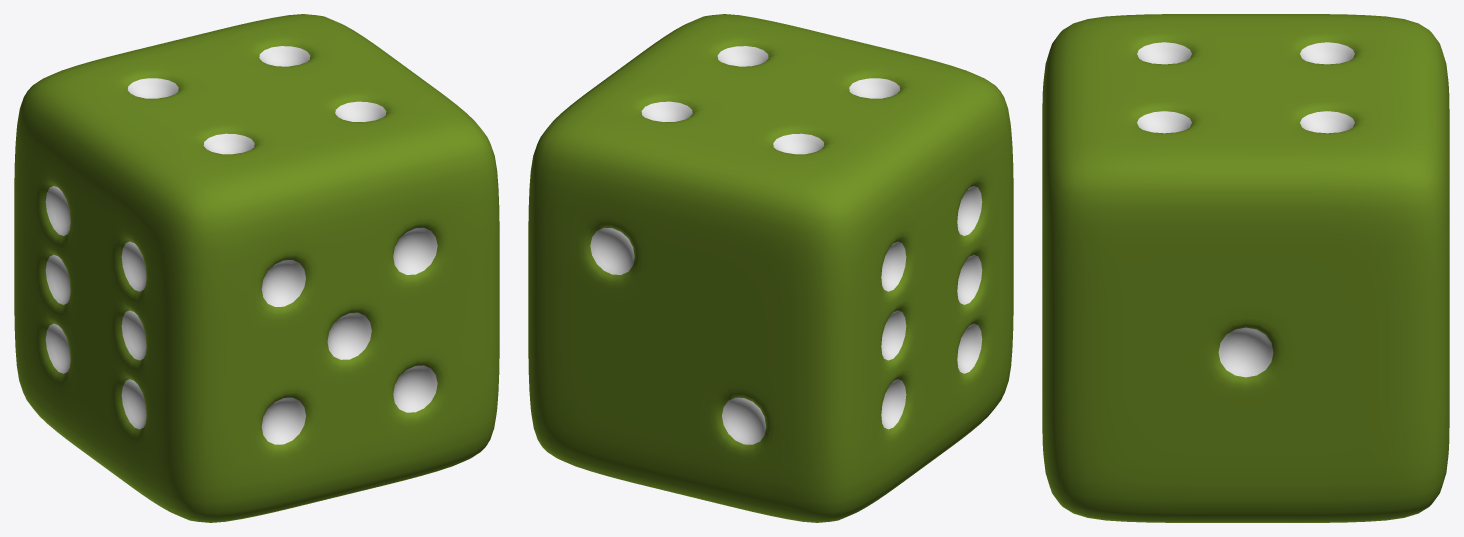
The model's file is dice.fbx.
The picture shows the model from 3 angles, left to right: view 1: azimuth 30°, elevation 25°; view 2: azimuth 150°, elevation 25°; view 3: azimuth 270°, elevation 25°; orthographic projection. The views are drawn at different scales.
Parts seen in each view (by area): view 1: Cube; view 2: Cube; view 3: Cube.
Boxes of the visible parts, x1=… form: Cube: x1=14, y1=14, x2=499, y2=522; Cube: x1=528, y1=14, x2=1013, y2=522; Cube: x1=1042, y1=14, x2=1449, y2=522.
Size of the model in its own units: 200 by 200 by 200.
